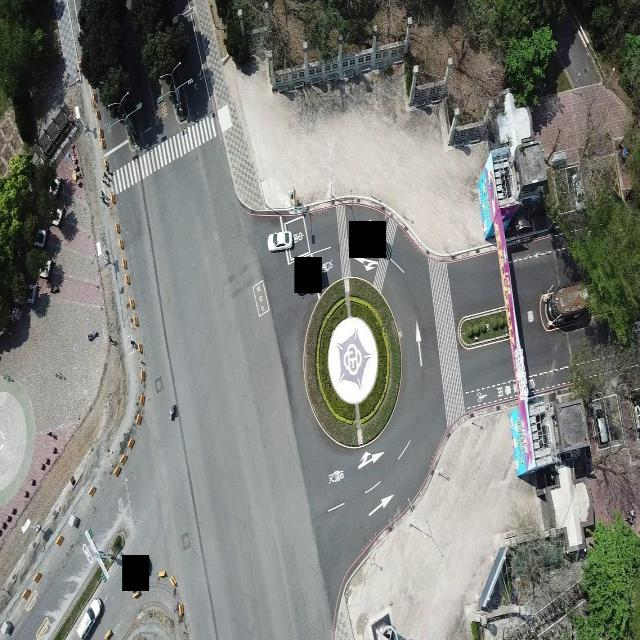bike: (168, 402, 178, 421)
car: (78, 596, 104, 638), (592, 397, 610, 450), (569, 170, 584, 214), (266, 229, 294, 252)
